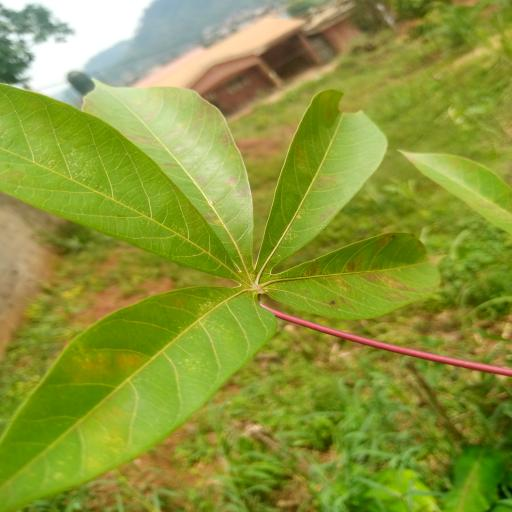Cassava_Brown_Leaf_Spot: (5, 70, 443, 501)
